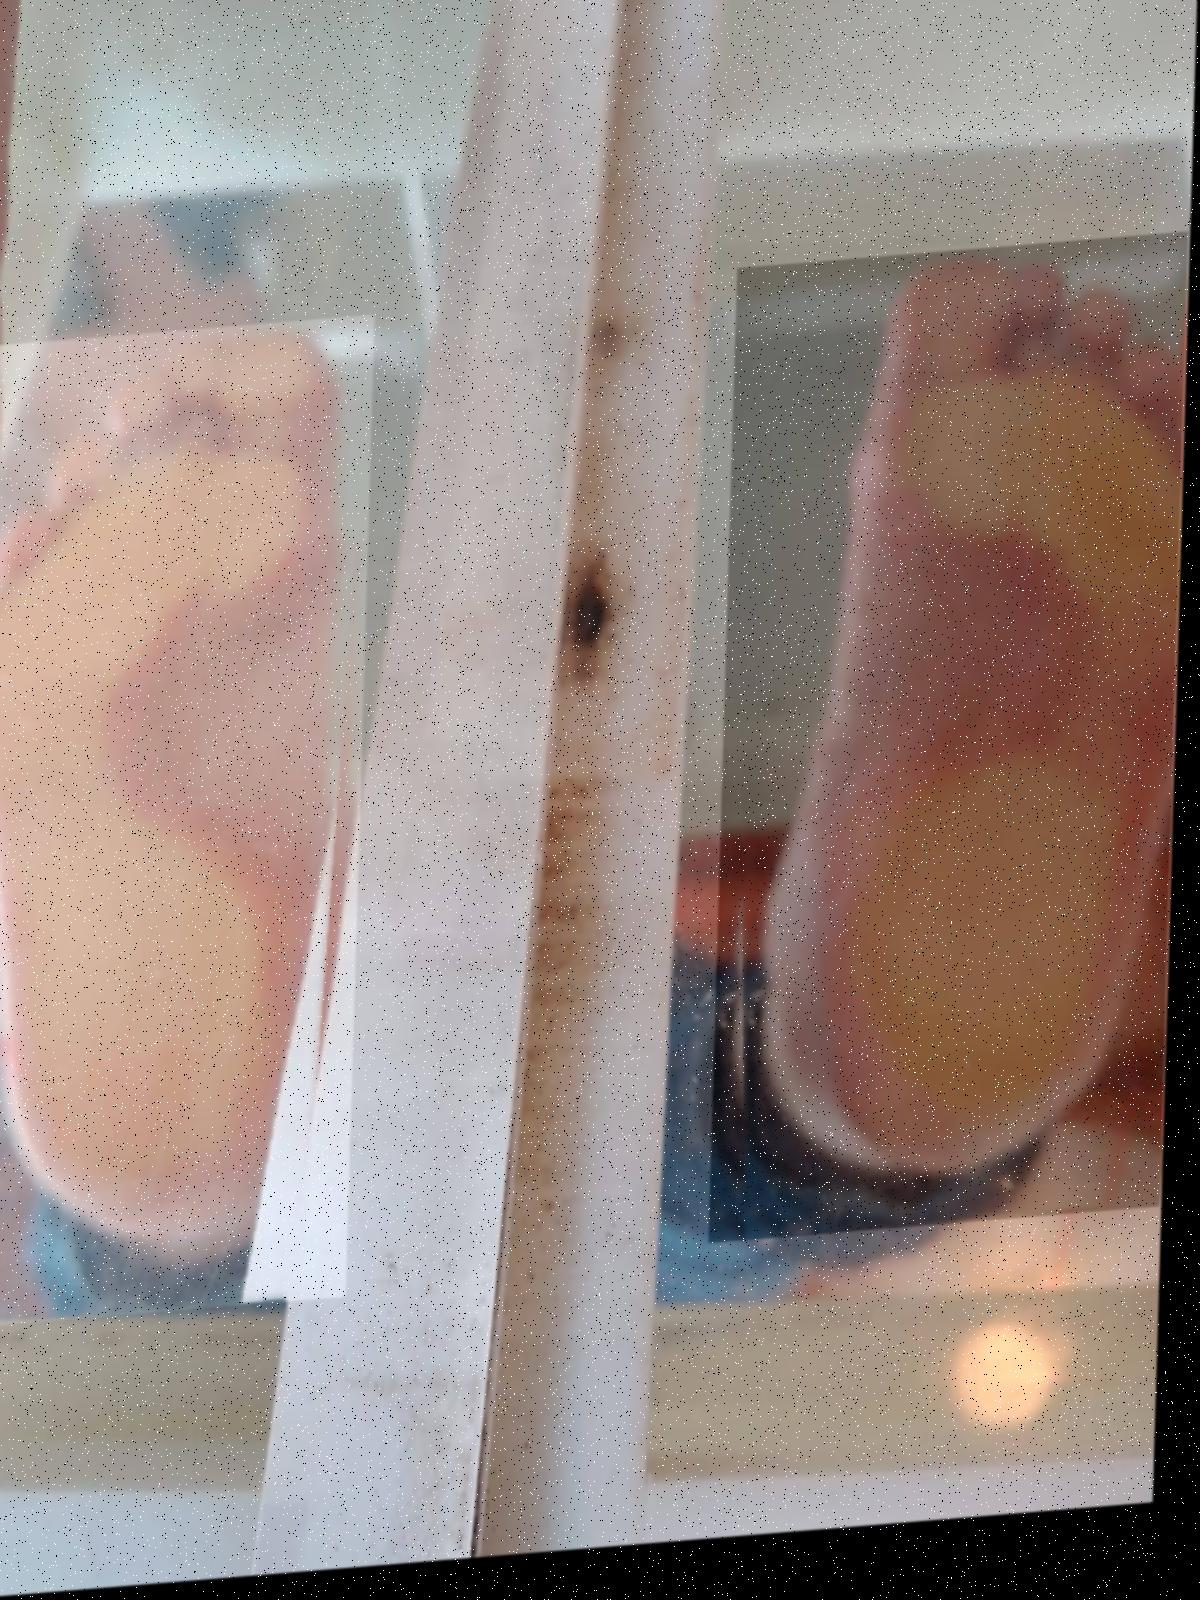9: (0, 321, 378, 1328)
Present: (717, 252, 1191, 1256)
